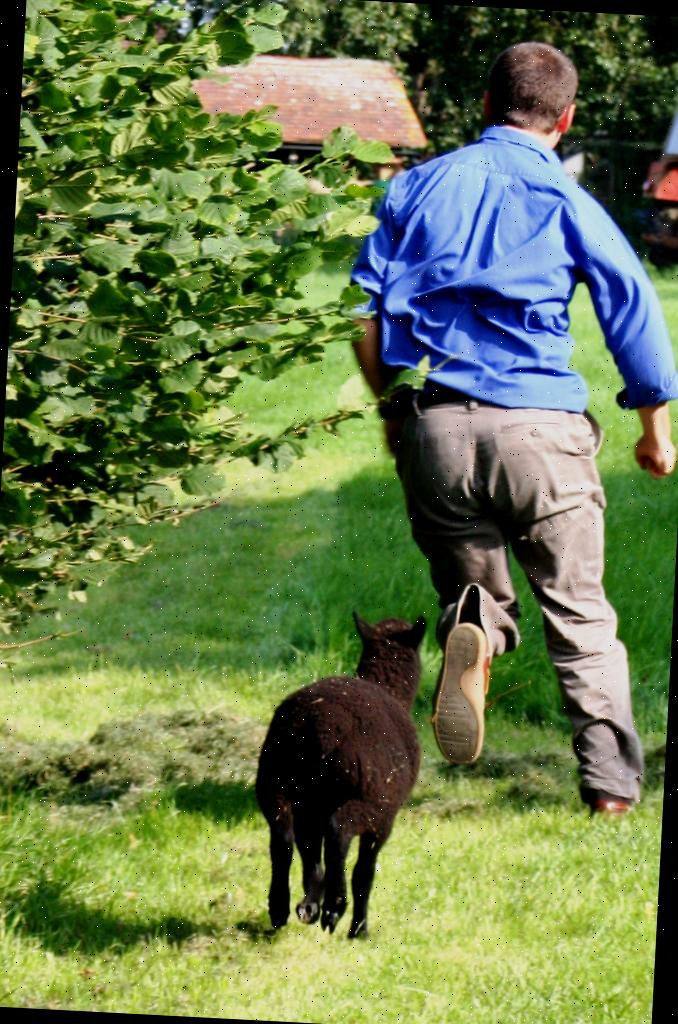Sheep: (237, 598, 443, 928)
